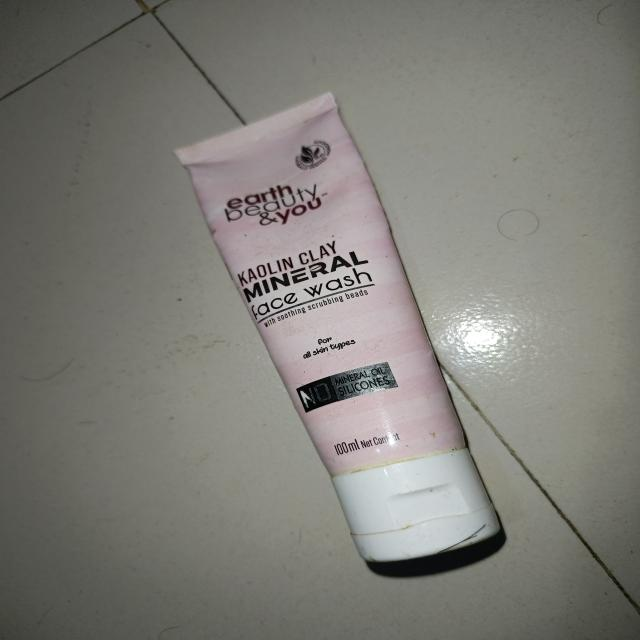Squeeze Tube: (172, 93, 534, 577)
